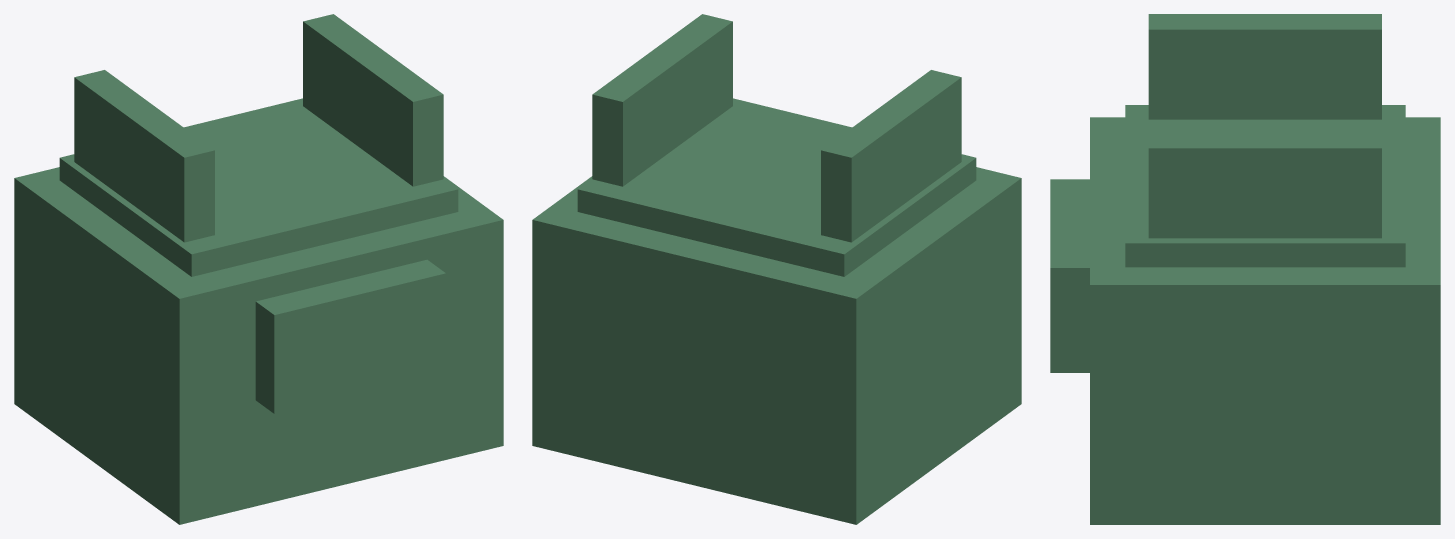
File: pickler.glb
3 views of the same model, side by side, from view 1: azimuth 30°, elevation 25°; view 2: azimuth 150°, elevation 25°; view 3: azimuth 270°, elevation 25° (orthographic). The views are drawn at different scales.
Visible parts, largest first — view 1: module.pickler; view 2: module.pickler; view 3: module.pickler.
Part boxes in pixels (left/top/right/bottom): module.pickler: left=14, top=14, right=503, bottom=524; module.pickler: left=532, top=14, right=1021, bottom=524; module.pickler: left=1050, top=14, right=1440, bottom=524.
Bounding box in the file's own units: 1 × 1 × 0.9824.
